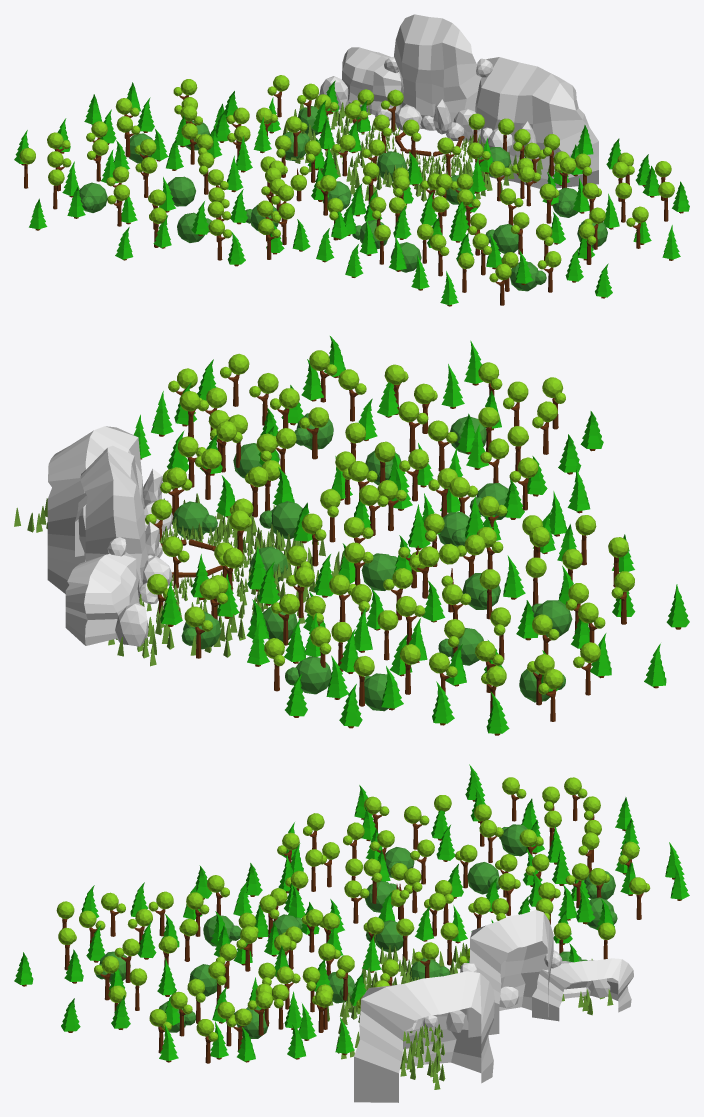
Rendered from aplinka.glb.
The picture shows the model from 3 angles, top to bottom: view 1: azimuth 30°, elevation 25°; view 2: azimuth 150°, elevation 25°; view 3: azimuth 270°, elevation 25°; orthographic projection. The views are drawn at different scales.
Parts seen in each view (by area): view 1: Plane.002, Plane.001, Plane.003, Icosphere.027, Icosphere.023, Icosphere.033, Icosphere.025, Icosphere.021, Icosphere.031, Icosphere.001, Icosphere.045; view 2: Plane.001, Plane.002, Plane.003, Icosphere.021, Icosphere.037, Icosphere.010, Icosphere.012, Icosphere.014, Icosphere.031, Icosphere.035, Icosphere.008, Icosphere.027 (+2 smaller); view 3: Plane.002, Plane.001, Plane.003, Icosphere.027, Icosphere.010, Icosphere.033, Icosphere.029.
Part boxes in pixels (<box>): Plane.002: <box>475,57,598,188</box>; Plane.001: <box>394,14,481,130</box>; Plane.003: <box>342,47,401,115</box>; Icosphere.027: <box>167,176,195,206</box>; Icosphere.023: <box>493,224,518,253</box>; Icosphere.033: <box>79,182,107,212</box>; Icosphere.025: <box>377,151,406,181</box>; Icosphere.021: <box>319,76,348,109</box>; Icosphere.031: <box>177,212,204,242</box>; Icosphere.001: <box>433,99,450,134</box>; Icosphere.045: <box>391,242,421,272</box>; Plane.001: <box>75,445,148,587</box>; Plane.002: <box>47,426,144,593</box>; Plane.003: <box>65,552,139,645</box>; Icosphere.021: <box>115,603,148,646</box>; Icosphere.037: <box>295,656,331,694</box>; Icosphere.010: <box>361,553,396,590</box>; Icosphere.012: <box>271,501,302,538</box>; Icosphere.014: <box>173,501,209,539</box>; Icosphere.031: <box>534,600,572,637</box>; Icosphere.035: <box>364,673,398,711</box>; Icosphere.008: <box>263,606,297,641</box>; Icosphere.027: <box>450,628,483,665</box>; Plane.002: <box>354,971,494,1102</box>; Plane.001: <box>466,910,553,1037</box>; Plane.003: <box>532,958,633,1021</box>; Icosphere.027: <box>467,862,499,894</box>; Icosphere.010: <box>375,920,403,952</box>; Icosphere.033: <box>500,824,527,856</box>; Icosphere.029: <box>365,881,394,912</box>.
Size of what is drawn, in the model's own units: 67.87 by 16.69 by 69.26.
